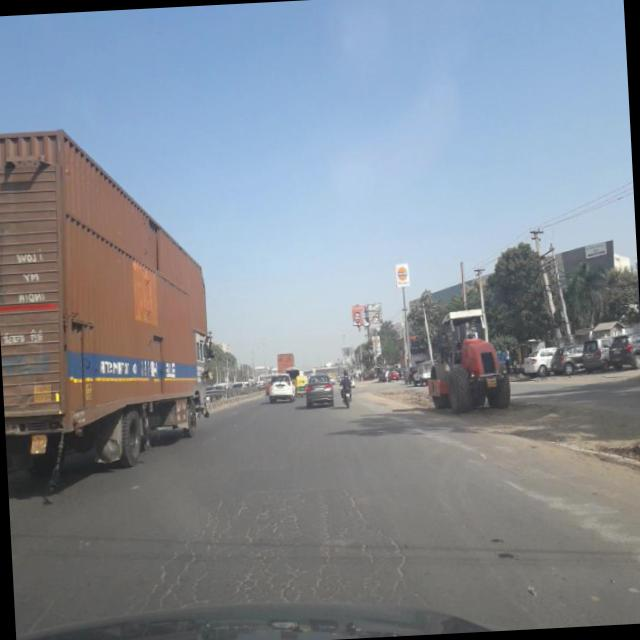crack: (131, 472, 416, 631)
